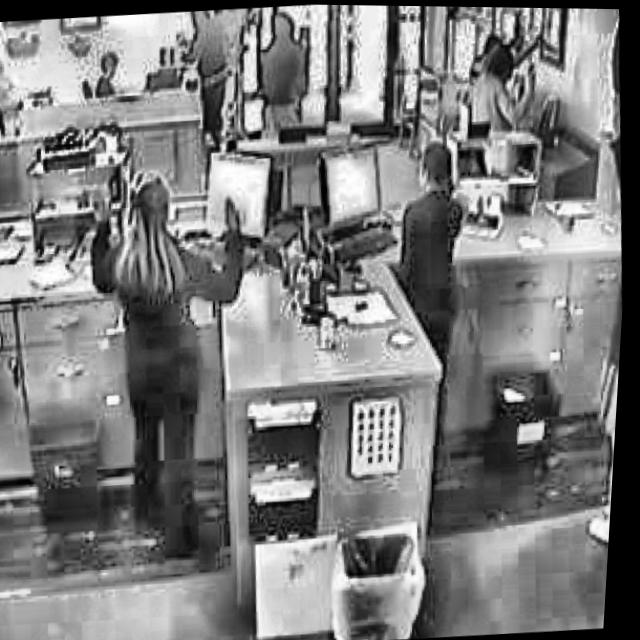robbery: (77, 162, 259, 319), (454, 17, 556, 133)
